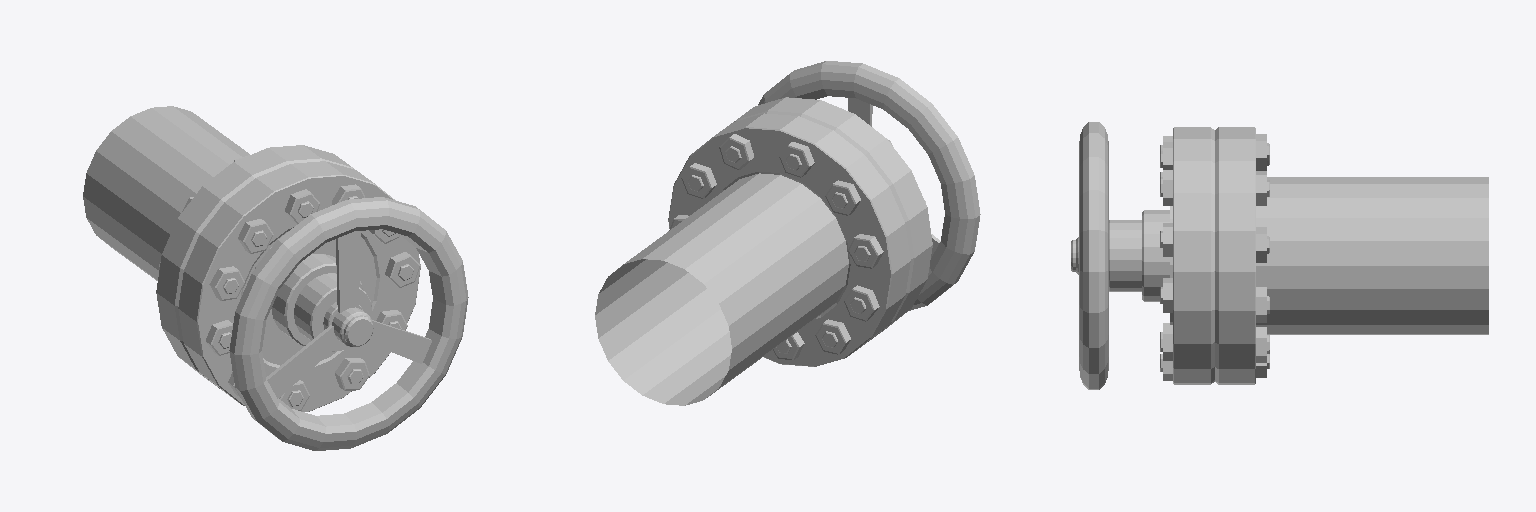
File: Wheel.obj
3 renders of one model, left to right at view 1: azimuth 30°, elevation 25°; view 2: azimuth 150°, elevation 25°; view 3: azimuth 270°, elevation 25°, orthographic.
Parts seen in each view (by area): view 1: pCube17; view 2: pCube17; view 3: pCube17.
Boxes of the visible parts, box(x1,y1,x2,y2) form: pCube17: box(83, 106, 468, 450); pCube17: box(595, 61, 980, 405); pCube17: box(1071, 122, 1488, 389).
Bounding box in the file's own units: 108 × 108 × 167.